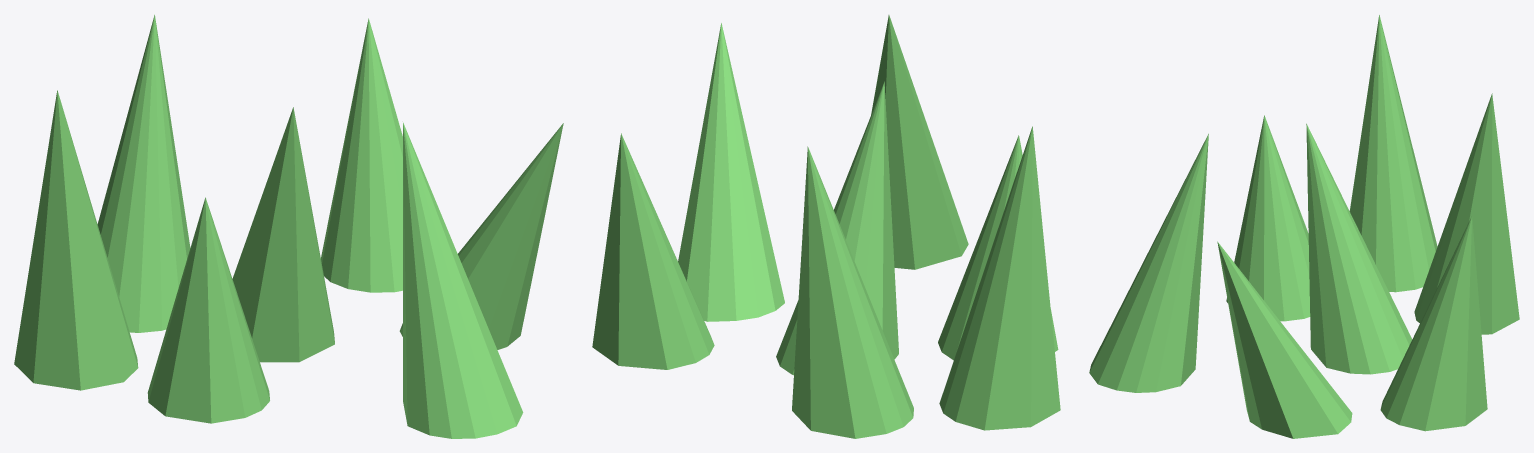
Rendered from grass 2.fbx.
The picture shows the model from 3 angles, left to right: view 1: azimuth 30°, elevation 25°; view 2: azimuth 150°, elevation 25°; view 3: azimuth 270°, elevation 25°; orthographic projection. The views are drawn at different scales.
Parts seen in each view (by area): view 1: grass2; view 2: grass2; view 3: grass2.
Boxes of the visible parts, box(x1,y1,x2,y2) form: grass2: box(14, 14, 563, 438); grass2: box(592, 15, 1060, 438); grass2: box(1089, 15, 1519, 438).
Bounding box in the file's own units: 878 × 569 × 869.
